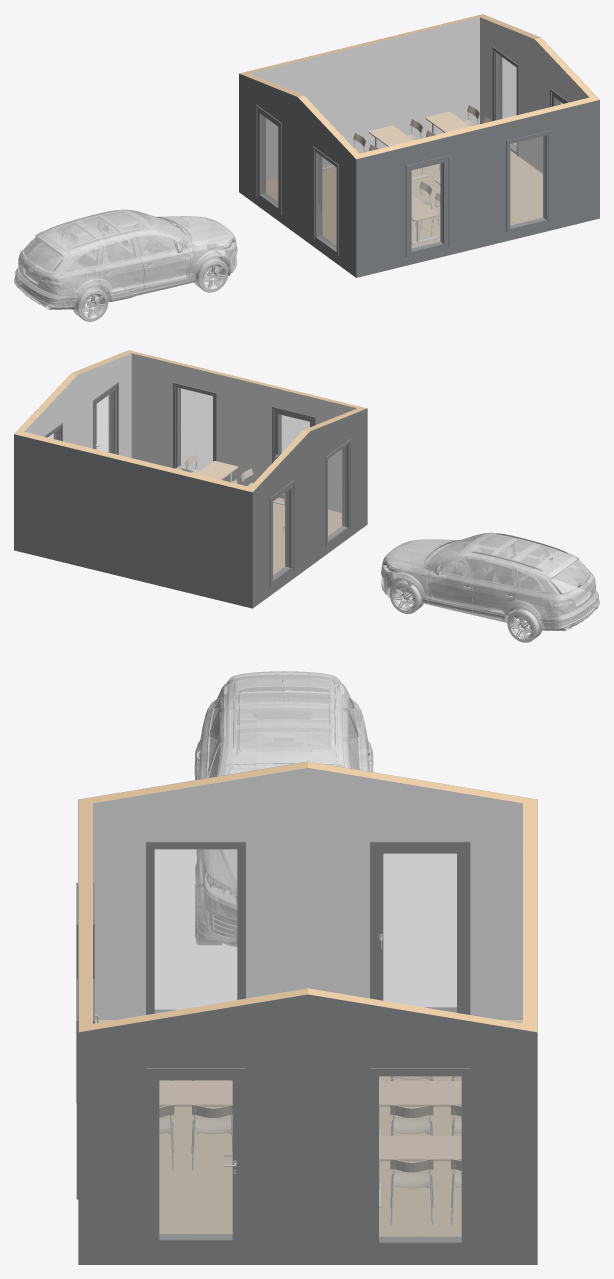
Rendered from sarunas@prohaus.fbx.
3 views of the same model, one above another, from view 1: azimuth 30°, elevation 25°; view 2: azimuth 150°, elevation 25°; view 3: azimuth 270°, elevation 25° (orthographic). The views are drawn at different scales.
Visible parts, largest first — view 1: IfcWall/Part:2319977, IfcWall/Part:2319982, IfcFurnishingElement/Audi+Q7+-+Change+color+bimshares.com (2, IfcWall/Part:2368366, IfcWall/Part:2319979, IfcSlab/Part:2319985, IfcWindow/Langai (Akrusta):1000x2100x160 (dešininis):2505737, IfcWindow/Langai (Akrusta):1000x2100x160:2512621, IfcWindow/Langai (Akrusta):1000x2100x160:2513522, IfcWindow/Langai (Akrusta):1000x2100x160 (dešininis):2513605, IfcWindow/Langai (Akrusta):1000x2100x160:2513791, IfcWall/Part:2319978 (+5 smaller); view 2: IfcWall/Part:2319983, IfcFurnishingElement/Audi+Q7+-+Change+color+bimshares.com (2, IfcWall/Part:2319976, IfcWall/Part:2368366, IfcWall/Part:2319979, IfcWindow/Langai (Akrusta):1000x2100x160:2512621, IfcWindow/Langai (Akrusta):1000x2100x160:2513522, IfcWindow/Langai (Akrusta):1000x2100x160 (dešininis):2513605, IfcDoor/Durys išorinės:1000x2100x160 (kairinės):2512271, IfcWindow/Langai (Akrusta):1000x2100x160 (dešininis):2505737, IfcWall/Part:2319984, IfcSlab/Part:2319985 (+4 smaller); view 3: IfcWall/Part:2319980, IfcWall/Part:2368365, IfcFurnishingElement/Audi+Q7+-+Change+color+bimshares.com (2, IfcWindow/Langai (Akrusta):1000x2100x160:2513791, IfcDoor/Durys išorinės:1000x2100x160 (kairinės):2512271, IfcWindow/Langai (Akrusta):1000x2100x160 (dešininis):2513605, IfcWindow/Langai (Akrusta):1000x2100x160:2513522, IfcSlab/Part:2319985, IfcFurnishingElement/SSG_Desk_Administration_Adjustable_PCS. (×2), IfcFurnishingElement/furniture_chairs_stools_benches_Lammhu. (×3), IfcWall/Part:2319984, IfcWall/Part:2319978 (+3 smaller).
Boxes of the visible parts, <box> form: IfcWall/Part:2319977: <box>356,100,599,277</box>; IfcWall/Part:2319982: <box>249,17,479,179</box>; IfcFurnishingElement/Audi+Q7+-+Change+color+bimshares.com (2: <box>14,209,237,321</box>; IfcWall/Part:2368366: <box>239,73,356,277</box>; IfcWall/Part:2319979: <box>480,17,589,173</box>; IfcSlab/Part:2319985: <box>266,150,542,247</box>; IfcWindow/Langai (Akrusta):1000x2100x160 (dešininis):2505737: <box>405,155,450,257</box>; IfcWindow/Langai (Akrusta):1000x2100x160:2512621: <box>506,130,550,232</box>; IfcWindow/Langai (Akrusta):1000x2100x160:2513522: <box>312,146,338,256</box>; IfcWindow/Langai (Akrusta):1000x2100x160 (dešininis):2513605: <box>255,104,281,214</box>; IfcWindow/Langai (Akrusta):1000x2100x160:2513791: <box>492,46,518,156</box>; IfcWall/Part:2319978: <box>353,97,592,158</box>; IfcWall/Part:2319983: <box>14,434,252,608</box>; IfcFurnishingElement/Audi+Q7+-+Change+color+bimshares.com (2: <box>381,532,599,642</box>; IfcWall/Part:2319976: <box>131,353,356,512</box>; IfcWall/Part:2368366: <box>253,408,367,607</box>; IfcWall/Part:2319979: <box>24,353,131,457</box>; IfcWindow/Langai (Akrusta):1000x2100x160:2512621: <box>173,382,216,472</box>; IfcWindow/Langai (Akrusta):1000x2100x160:2513522: <box>325,439,351,546</box>; IfcWindow/Langai (Akrusta):1000x2100x160 (dešininis):2513605: <box>269,480,295,587</box>; IfcDoor/Durys išorinės:1000x2100x160 (kairinės):2512271: <box>93,382,118,454</box>; IfcWindow/Langai (Akrusta):1000x2100x160 (dešininis):2505737: <box>272,406,315,498</box>; IfcWall/Part:2319984: <box>14,430,255,492</box>; IfcSlab/Part:2319985: <box>273,497,341,574</box>; IfcWall/Part:2319980: <box>78,994,537,1264</box>; IfcWall/Part:2368365: <box>93,767,522,1019</box>; IfcFurnishingElement/Audi+Q7+-+Change+color+bimshares.com (2: <box>194,671,373,946</box>; IfcWindow/Langai (Akrusta):1000x2100x160:2513791: <box>370,1068,470,1247</box>; IfcDoor/Durys išorinės:1000x2100x160 (kairinės):2512271: <box>146,1068,245,1247</box>; IfcWindow/Langai (Akrusta):1000x2100x160 (dešininis):2513605: <box>370,841,470,1014</box>; IfcWindow/Langai (Akrusta):1000x2100x160:2513522: <box>146,841,245,1014</box>; IfcSlab/Part:2319985: <box>95,1020,522,1236</box>; IfcFurnishingElement/SSG_Desk_Administration_Adjustable_PCS. (×2): <box>159,1081,461,1208</box>; IfcFurnishingElement/furniture_chairs_stools_benches_Lammhu. (×3): <box>191,1104,433,1224</box>; IfcWall/Part:2319984: <box>523,797,537,1031</box>; IfcWall/Part:2319978: <box>79,797,92,1026</box>.
Bounding box in the file's own units: 1290 × 346 × 502.
